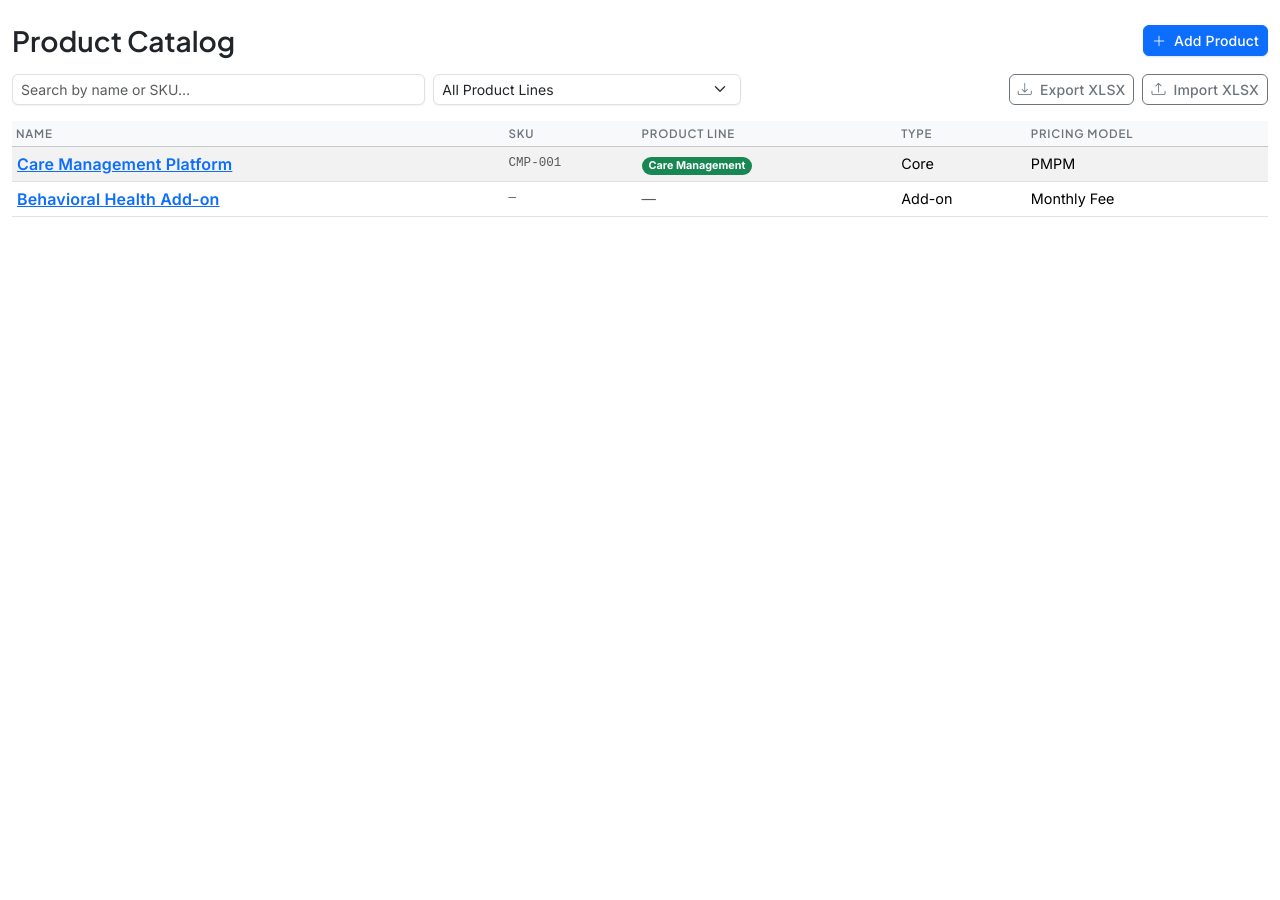
Test: Edit product › opens edit drawer pre-filled when Edit is clicked
The width and height of the screenshot is (1280, 900).
Click the button with aria-label "view details for care management platform". click: (125, 164)
box: x1=16 y1=151 x2=233 y2=177
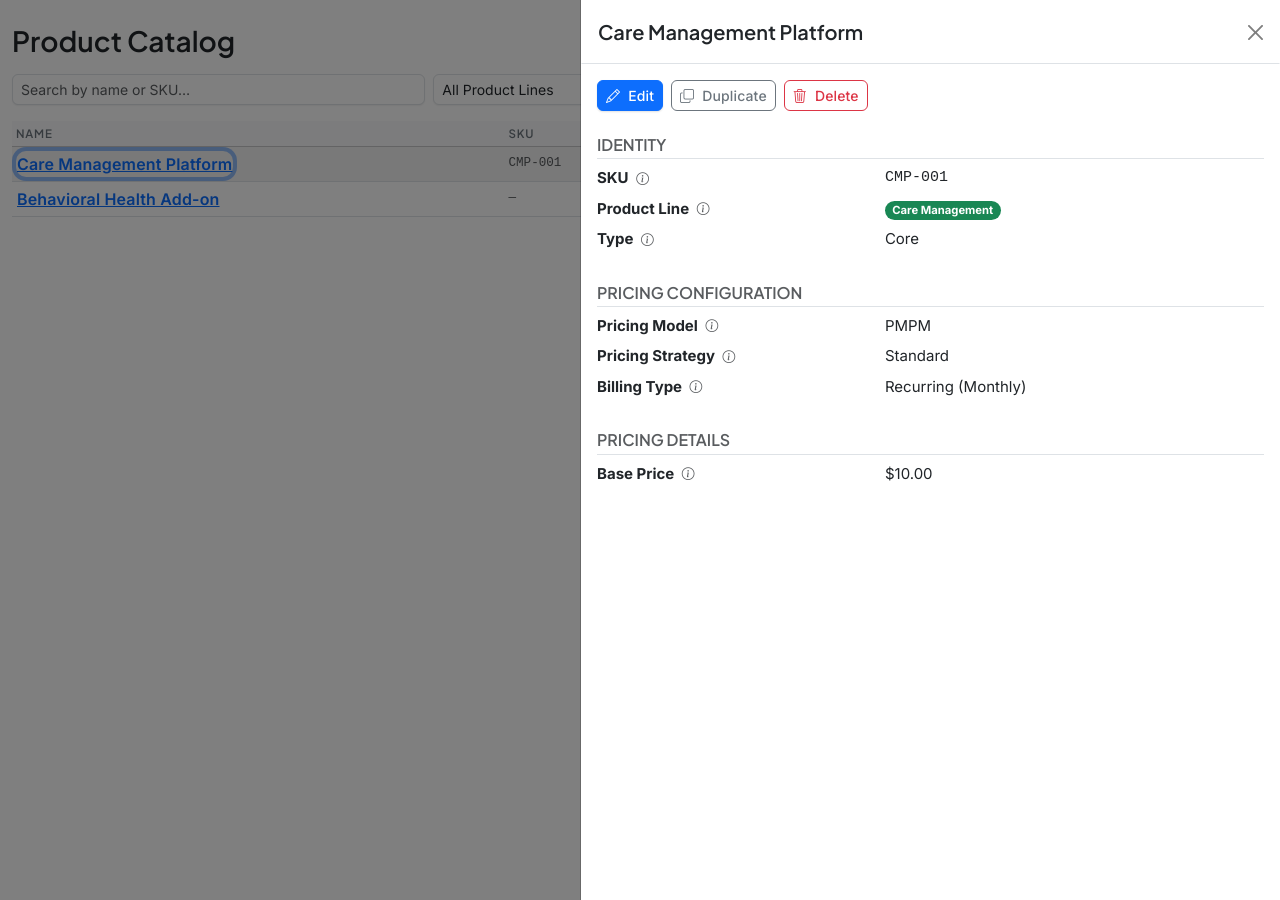
Click the button with aria-label "edit care management platform". click: (630, 96)
box: x1=597 y1=80 x2=663 y2=111
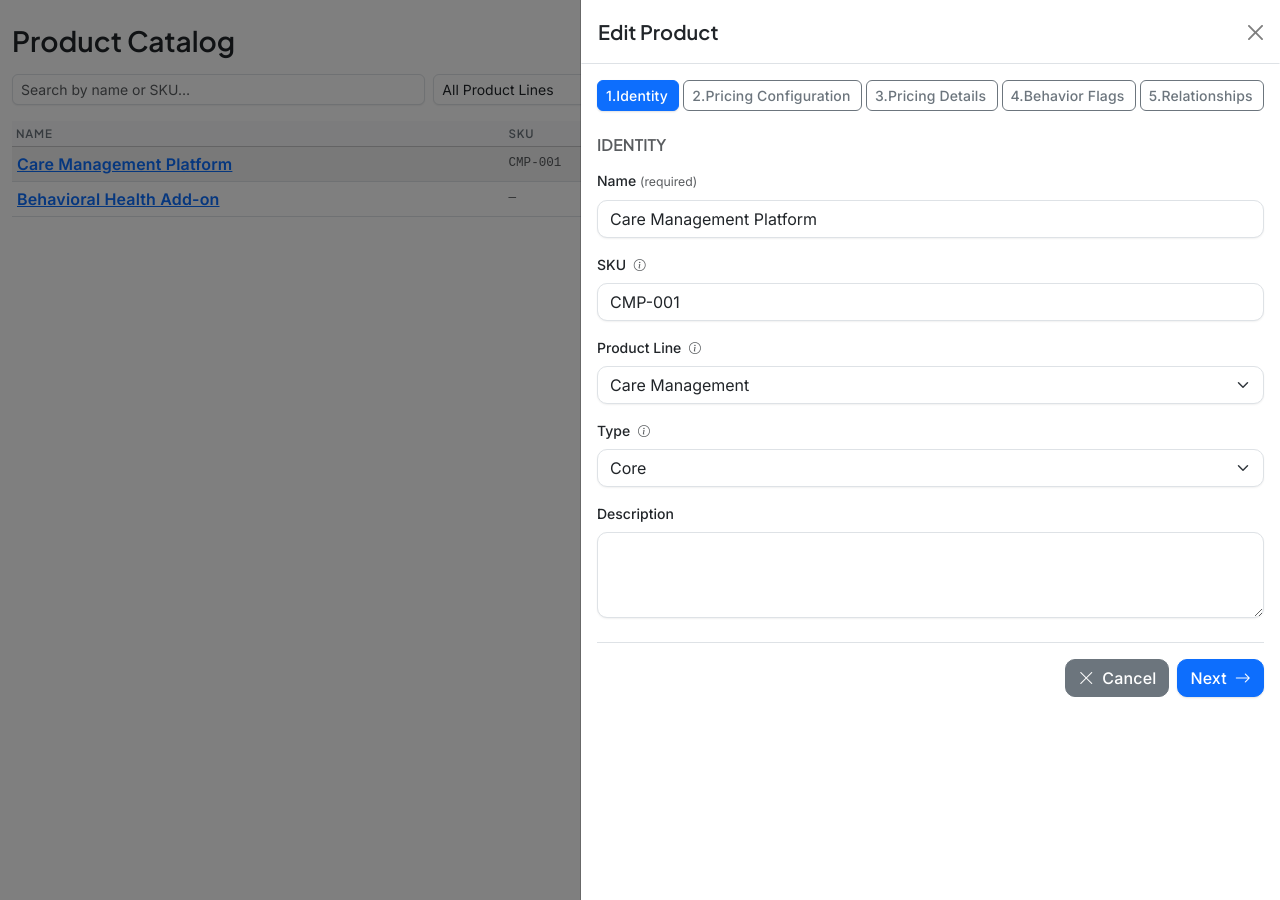
Now the dialog "Edit Product" is shown, box x1=580 y1=0 x2=1279 y2=899
Now the field labelled "Name (required)" holds "Care Management Platform", box x1=597 y1=200 x2=1264 y2=238
